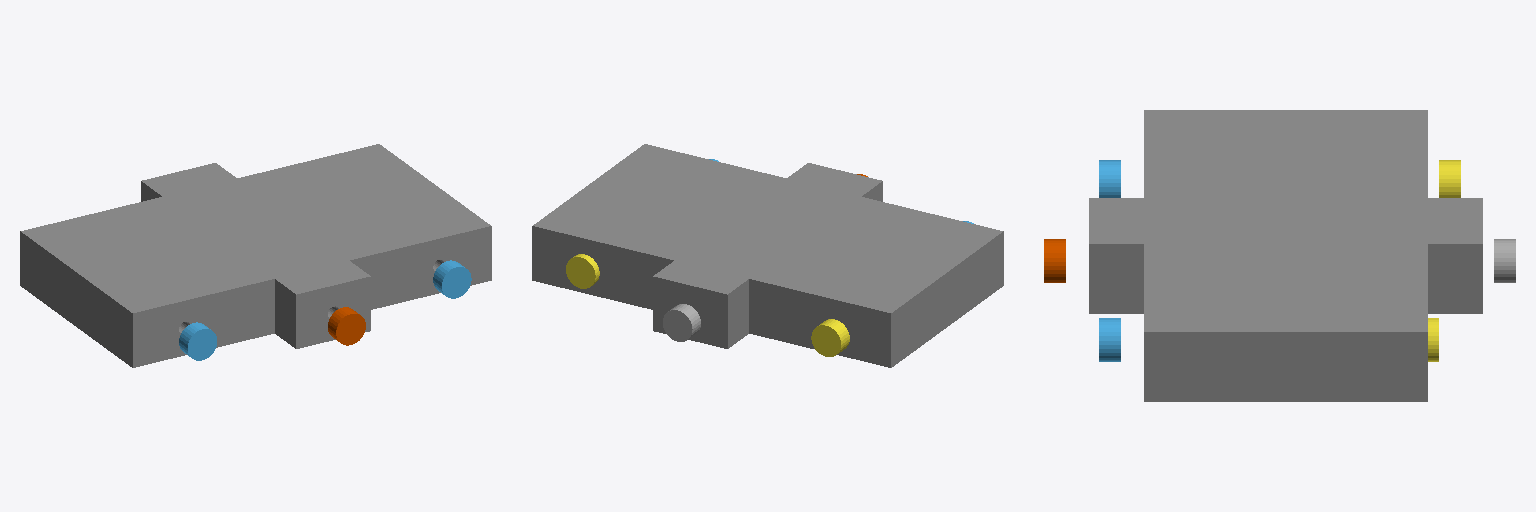
robot.urdf — hexa:
<?xml version="1.0" ?>
<!-- URDF found in "https://github.com/grafoteka/rhex" and updated by [author] to have collision tags, inertial tags, and to translate spanish words to english -->
<robot name="hexa">
  <link name="base_link">
    <!-- <inertial>
      <mass value=""/>
      <inertia ixx="" ixy="" ixz="" iyy="" iyz="" izz=""/>
      <origin xyz="0 0 0"/>
    </inertial> -->
    <visual>
      <origin xyz="0 0 0" rpy="0 0 0" />
      <geometry>
          <mesh filename="meshes/chassis.dae" scale="0.001 0.001 0.001" />
      </geometry>
    </visual>
    <collision>
      <origin xyz="0 0 0" rpy="0 0 0" />
      <geometry>
          <mesh filename="meshes/chassis.dae" scale="0.001 0.001 0.001" />
      </geometry>
    </collision>
  </link>

  <!-- axis 1 -->
  <link name="axis1">
    <!-- <inertial>
      <mass value=""/>
      <inertia ixx="" ixy="" ixz="" iyy="" iyz="" izz=""/>
      <origin xyz="0 0 0"/>
    </inertial> -->
    <visual>
      <origin xyz="0.07 0.02 0.03" rpy="0 1.5708 1.5708" />
      <geometry>
          <cylinder radius="0.02" length="0.02"/>
      </geometry>
      <material name="Blue"/>
    </visual>
  </link>
  <joint name="joint_axis1" type="fixed">
    <parent link="base_link"/>
    <child link="axis1"/>
    <origin xyz="0 0 0" rpy="0 0 0" /> 
    <axis xyz="0 1 0" rpy="0 0 0" />
  </joint>  

  <!-- leg 1 -->
  <link name="leg1">
    <!-- <inertial>
      <mass value=""/>
      <inertia ixx="" ixy="" ixz="" iyy="" iyz="" izz=""/>
      <origin xyz="0 0 0"/>
    </inertial> -->
    <visual>
      <origin xyz="0 0 0" rpy="0 0 0" /> <!-- 0.07 0.02 0.03 -->
      <geometry>
          <mesh filename="meshes/leg.dae" scale="0.001 0.001 0.001" />
      </geometry>
    </visual>
    <collision>
      <origin xyz="0 0 0" rpy="0 0 0" /> <!-- 0.07 0.02 0.03 -->
      <geometry>
          <mesh filename="meshes/leg.dae" scale="0.001 0.001 0.001" />
      </geometry>
    </collision>
  </link>
  <joint name="joint_leg1" type="continuous">
    <parent link="axis1"/>
    <child link="leg1"/>
    <origin xyz="0.07 0.02 0.03" rpy="0 0 0" /> 
    <axis xyz="0 1 0" rpy="0 0 0" />
  </joint>

  <!-- axis 2 -->
  <link name="axis2">
    <visual>
      <origin xyz="0.07 0.33 0.03" rpy="0 1.5708 1.5708" />
      <geometry>
          <cylinder radius="0.02" length="0.02"/>
      </geometry>
      <material name="Blue"/>
    </visual>
  </link>
  <joint name="joint_axis2" type="fixed">
    <parent link="base_link"/>
    <child link="axis2"/>
    <origin xyz="0 0 0" rpy="0 0 0" /> 
    <axis xyz="0 1 0" rpy="0 0 0" />
  </joint>  

  <!-- leg 2 -->
  <link name="leg2">
    <visual>
      <origin xyz="0 0 0" rpy="0 0 0" /> <!-- 0.07 0.02 0.03 -->
      <geometry>
          <mesh filename="meshes/leg.dae" scale="0.001 0.001 0.001" />
      </geometry>
    </visual>
    <collision>
      <origin xyz="0 0 0" rpy="0 0 0" /> <!-- 0.07 0.02 0.03 -->
      <geometry>
          <mesh filename="meshes/leg.dae" scale="0.001 0.001 0.001" />
      </geometry>
    </collision>
  </link>
  <joint name="joint_leg2" type="continuous">
    <parent link="axis2"/>
    <child link="leg2"/>
    <origin xyz="0.07 0.33 0.03" rpy="0 0 0" /> 
    <axis xyz="0 1 0" rpy="0 0 0" />
  </joint>

  <!-- axis 3 -->
  <link name="axis3">
    <visual>
      <origin xyz="0.24 -0.03 0.03" rpy="0 1.5708 1.5708" />
      <geometry>
          <cylinder radius="0.02" length="0.02"/>
      </geometry>
      <material name="Blue"/>
    </visual>
  </link>
  <joint name="joint_axis3" type="fixed">
    <parent link="base_link"/>
    <child link="axis3"/>
    <origin xyz="0 0 0" rpy="0 0 0" /> 
    <axis xyz="0 1 0" rpy="0 0 0" />
  </joint>  

  <!-- leg 3 -->
  <link name="leg3">
    <visual>
      <origin xyz="0 0 0" rpy="0 0 0" /> <!-- 0.07 0.02 0.03 -->
      <geometry>
          <mesh filename="meshes/leg.dae" scale="0.001 0.001 0.001" />
      </geometry>
    </visual>
    <collision>
      <origin xyz="0 0 0" rpy="0 0 0" /> <!-- 0.07 0.02 0.03 -->
      <geometry>
          <mesh filename="meshes/leg.dae" scale="0.001 0.001 0.001" />
      </geometry>
    </collision>
  </link>
  <joint name="joint_leg3" type="continuous">
    <parent link="axis3"/>
    <child link="leg3"/>
    <origin xyz="0.24 -0.03 0.03" rpy="0 0 0" /> 
    <axis xyz="0 1 0" rpy="0 0 0" />
  </joint>

  <!-- axis 4 -->
  <link name="axis4">
    <visual>
      <origin xyz="0.24 0.38 0.03" rpy="0 1.5708 1.5708" />
      <geometry>
          <cylinder radius="0.02" length="0.02"/>
      </geometry>
      <material name="Blue"/>
    </visual>
  </link>
  <joint name="joint_axis4" type="fixed">
    <parent link="base_link"/>
    <child link="axis4"/>
    <origin xyz="0 0 0" rpy="0 0 0" /> 
    <axis xyz="0 1 0" rpy="0 0 0" />
  </joint>  

  <!-- leg 4 -->
  <link name="leg4">
    <visual>
      <origin xyz="0 0 0" rpy="0 0 0" /> <!-- 0.07 0.02 0.03 -->
      <geometry>
          <mesh filename="meshes/leg.dae" scale="0.001 0.001 0.001" />
      </geometry>
    </visual>
    <collision>
      <origin xyz="0 0 0" rpy="0 0 0" /> <!-- 0.07 0.02 0.03 -->
      <geometry>
          <mesh filename="meshes/leg.dae" scale="0.001 0.001 0.001" />
      </geometry>
    </collision>
  </link>
  <joint name="joint_leg4" type="continuous">
    <parent link="axis4"/>
    <child link="leg4"/>
    <origin xyz="0.24 0.38 0.03" rpy="0 0 0" /> 
    <axis xyz="0 1 0" rpy="0 0 0" />
  </joint>

  <!-- axis 5 -->
  <link name="axis5">
    <visual>
      <origin xyz="0.41 0.02 0.03" rpy="0 1.5708 1.5708" />
      <geometry>
          <cylinder radius="0.02" length="0.02"/>
      </geometry>
      <material name="Blue"/>
    </visual>
  </link>
  <joint name="joint_axis5" type="fixed">
    <parent link="base_link"/>
    <child link="axis5"/>
    <origin xyz="0 0 0" rpy="0 0 0" /> 
    <axis xyz="0 1 0" rpy="0 0 0" />
  </joint>  

  <!-- leg 5 -->
  <link name="leg5">
    <visual>
      <origin xyz="0 0 0" rpy="0 0 0" /> <!-- 0.07 0.02 0.03 -->
      <geometry>
          <mesh filename="meshes/leg.dae" scale="0.001 0.001 0.001" />
      </geometry>
    </visual>
    <collision>
      <origin xyz="0 0 0" rpy="0 0 0" /> <!-- 0.07 0.02 0.03 -->
      <geometry>
          <mesh filename="meshes/leg.dae" scale="0.001 0.001 0.001" />
      </geometry>
    </collision>
  </link>
  <joint name="joint_leg5" type="continuous">
    <parent link="axis5"/>
    <child link="leg5"/>
    <origin xyz="0.41 0.02 0.03" rpy="0 0 0" /> 
    <axis xyz="0 1 0" rpy="0 0 0" />
  </joint>

  <!-- axis 6 -->
  <link name="axis6">
    <visual>
      <origin xyz="0.41 0.31 0.03" rpy="0 1.5708 1.5708" />
      <geometry>
          <cylinder radius="0.02" length="0.02"/>
      </geometry>
      <material name="Blue"/>
    </visual>
  </link>
  <joint name="joint_axis6" type="fixed">
    <parent link="base_link"/>
    <child link="axis6"/>
    <origin xyz="0 0 0" rpy="0 0 0" /> 
    <axis xyz="0 1 0" rpy="0 0 0" />
  </joint>  

  <!-- leg 6 -->
  <link name="leg6">
    <visual>
      <origin xyz="0 0 0" rpy="0 0 0" /> <!-- 0.07 0.02 0.03 -->
      <geometry>
          <mesh filename="meshes/leg.dae" scale="0.001 0.001 0.001" />
      </geometry>
    </visual>
    <collision>
      <origin xyz="0 0 0" rpy="0 0 0" /> <!-- 0.07 0.02 0.03 -->
      <geometry>
          <mesh filename="meshes/leg.dae" scale="0.001 0.001 0.001" />
      </geometry>
    </collision>
  </link>
  <joint name="joint_leg6" type="continuous">
    <parent link="axis6"/>
    <child link="leg6"/>
    <origin xyz="0.41 0.31 0.03" rpy="0 0 0" /> 
    <axis xyz="0 1 0" rpy="0 0 0" />
  </joint>

</robot>

--- What the picture shows (computed from the rendered views, not written in the file) ---
Views: 3 orthographic renders of the robot side by side, from view 1: azimuth 30°, elevation 25°; view 2: azimuth 150°, elevation 25°; view 3: azimuth 270°, elevation 25°.
Model hexa with 13 links and 12 joints (6 continuous, 6 fixed), rooted at base_link, posed every joint at zero.
Visible links, largest first — view 1: base_link, axis5, axis1, axis3; view 2: base_link, axis2, axis4, axis6; view 3: base_link, axis3, axis4, axis5, axis1, axis2.
Link boxes in pixels (x1,y1,x2,y2): base_link: (20,144,491,367); axis5: (433,260,471,298); axis1: (179,322,216,360); axis3: (328,307,365,345); base_link: (532,144,1003,367); axis2: (811,319,849,356); axis4: (663,304,700,341); axis6: (566,254,599,288); base_link: (1089,110,1482,401); axis3: (1044,239,1065,282); axis4: (1494,239,1515,282); axis5: (1099,318,1120,361); axis1: (1099,160,1120,197); axis2: (1439,160,1460,197).
Bounding box of the posed robot: 0.48 × 0.43 × 0.07 m (x, y, z).
Meshes: 2 distinct files referenced, 1 mesh visuals loaded (1 Collada DAE); not drawn: 6 (file found but could not be loaded).